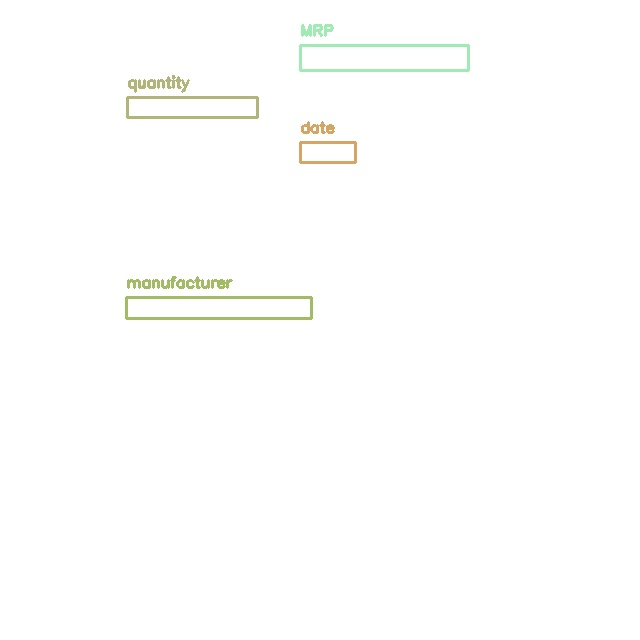MRP: (300, 45, 468, 70)
date: (300, 142, 355, 162)
manufacturer: (126, 297, 311, 318)
quantity: (127, 97, 257, 117)
